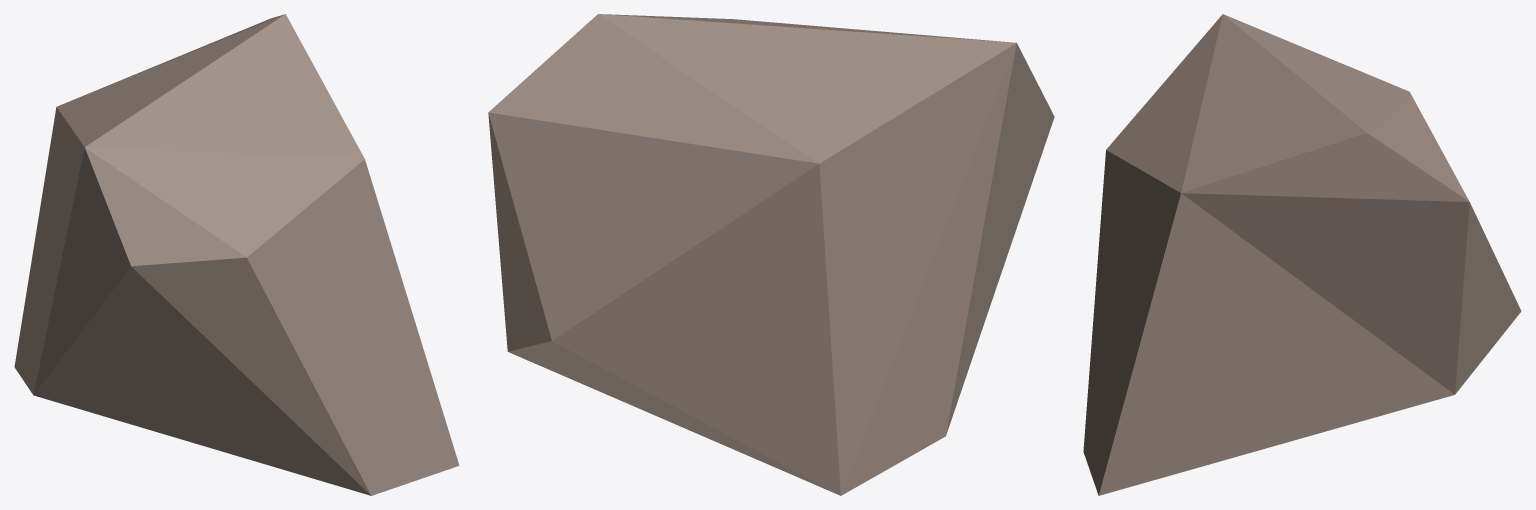
Rendered from Pebbles.glb.
3 renders of one model, left to right at view 1: azimuth 30°, elevation 25°; view 2: azimuth 150°, elevation 25°; view 3: azimuth 270°, elevation 25°, orthographic. The views are drawn at different scales.
Parts seen in each view (by area): view 1: Pebbles; view 2: Pebbles; view 3: Pebbles.
Boxes of the visible parts, x1,y1,x2,y2 form: Pebbles: (14,14,459,495); Pebbles: (488,14,1054,495); Pebbles: (1083,14,1521,495).
Size of the model in its own units: 0.0132 by 0.0144 by 0.0165.
